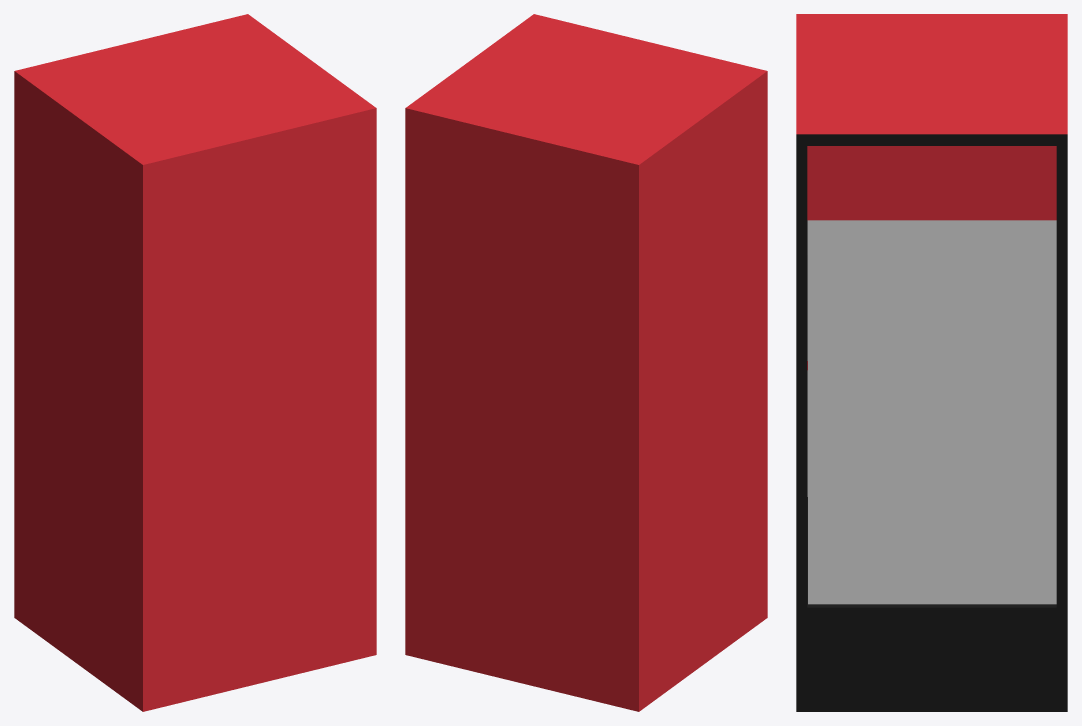
The picture shows the model from 3 angles, left to right: view 1: azimuth 30°, elevation 25°; view 2: azimuth 150°, elevation 25°; view 3: azimuth 270°, elevation 25°; orthographic projection. The views are drawn at different scales.
Parts seen in each view (by area): view 1: Cube; view 2: Cube; view 3: Cube.001, Cube.
Boxes of the visible parts, x1,y1,x2,y2 form: Cube: [14, 14, 376, 711]; Cube: [405, 14, 767, 711]; Cube.001: [808, 220, 1056, 604]; Cube: [796, 14, 1067, 711].
Bounding box in the file's own units: 268 × 599 × 255.
